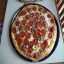pepperoni: (28, 19, 45, 47), (17, 23, 31, 47)
pizza: (10, 4, 58, 58)
